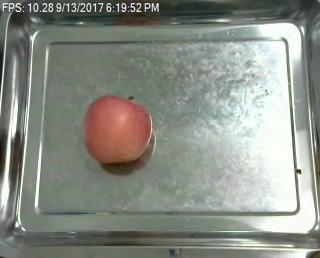apple: (83, 94, 154, 163)
